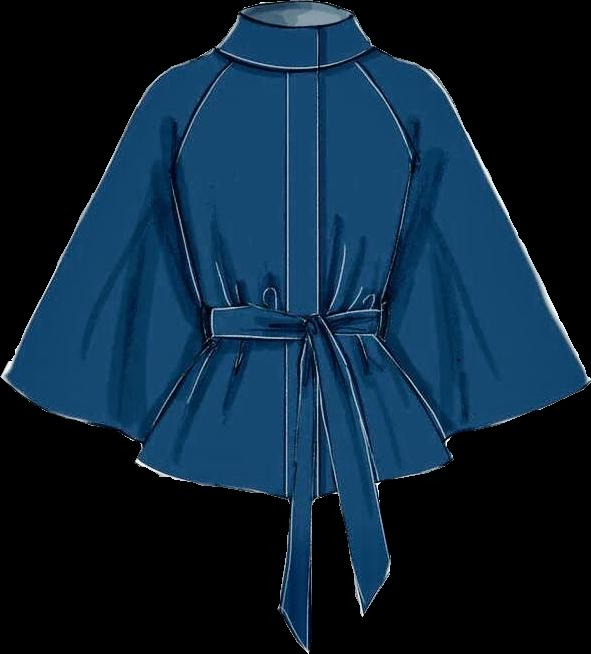Bodice: (137, 0, 451, 495)
Neckline: (213, 42, 370, 73), (241, 10, 353, 32)
Sleeve: (1, 48, 224, 443), (363, 50, 590, 436)
Sleeveline: (358, 48, 426, 172), (165, 46, 233, 166)
Waistline: (134, 454, 453, 500)
